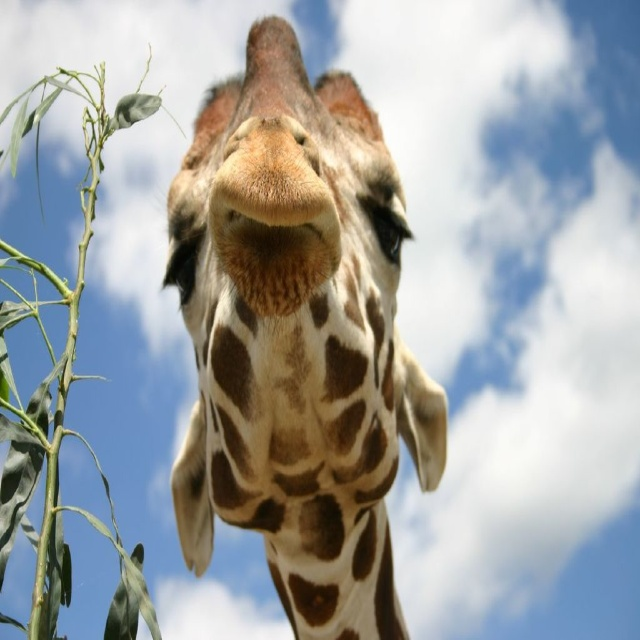Giraffe: (159, 14, 449, 639)
